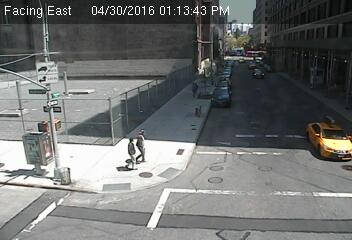neg: (240, 55, 273, 99), (55, 40, 85, 80), (297, 61, 318, 89), (248, 25, 268, 52), (310, 36, 327, 58), (148, 36, 162, 56), (207, 32, 221, 50)
pos: (110, 134, 136, 168), (133, 127, 159, 161), (184, 77, 200, 99)
